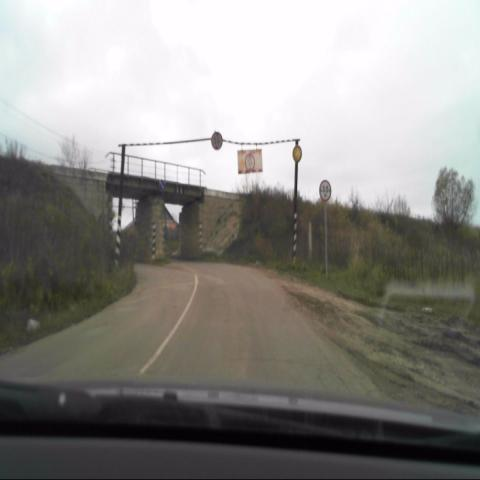3_14: (319, 179, 331, 202)
